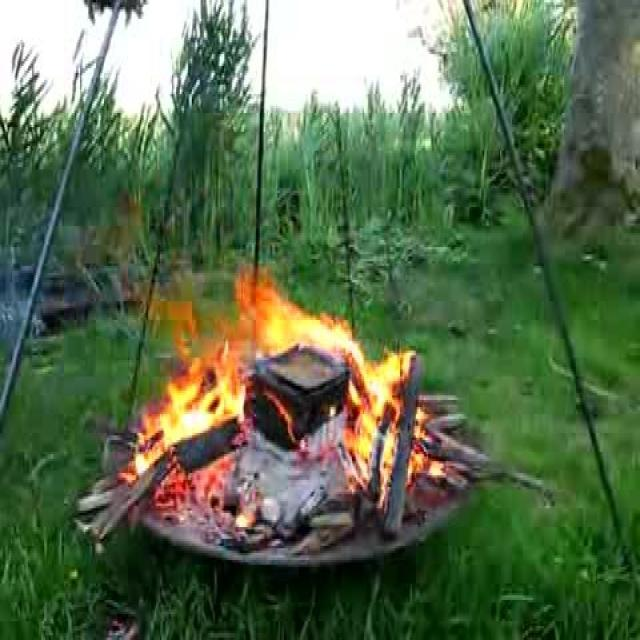Fire: (140, 291, 429, 479)
